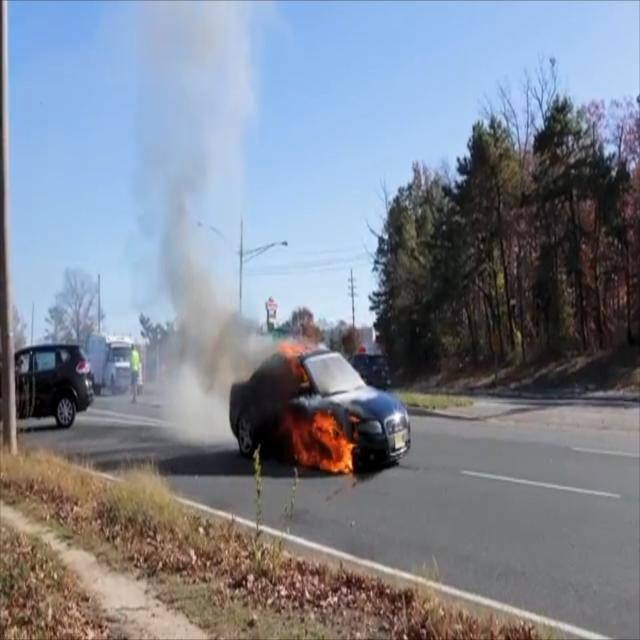fire: (276, 338, 358, 475)
